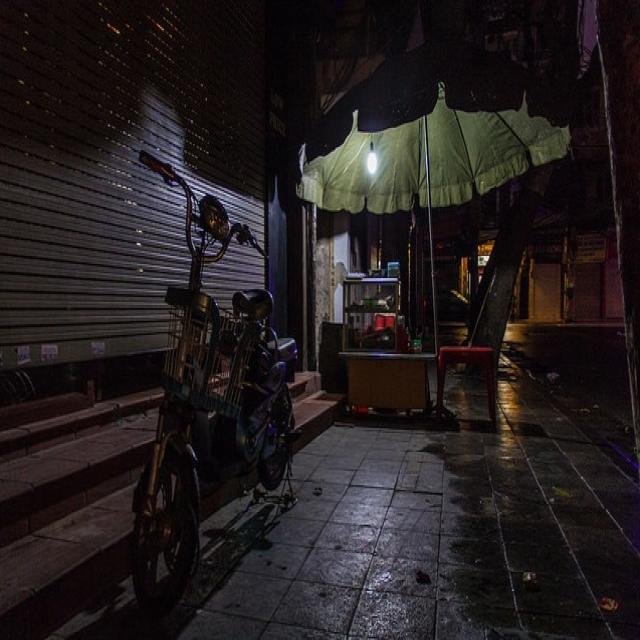Motorbike: (108, 122, 312, 640)
chair: (429, 317, 514, 443)
